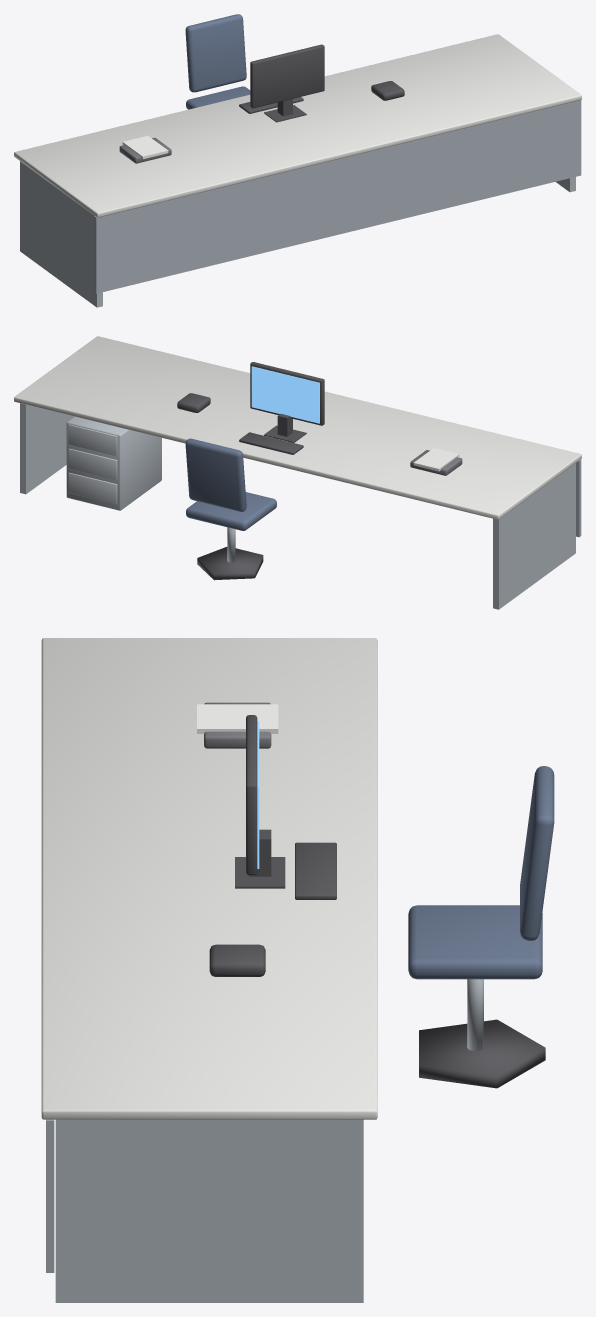
The model's file is office_desk.glb.
3 views of the same model, one above another, from view 1: azimuth 30°, elevation 25°; view 2: azimuth 150°, elevation 25°; view 3: azimuth 270°, elevation 25° (orthographic). The views are drawn at different scales.
Visible parts, largest first — view 1: Cube, Cube.001, Cube.002, Cube.017, Cube.008, Cube.016, Cube.014, Cube.015, Cube.013; view 2: Cube, Cube.002, Cube.004, Cube.017, Cube.003, Cube.009, Cube.016, Cylinder, Cube.006, Cube.007, Cube.005, Cube.008 (+5 smaller); view 3: Cube, Cube.003, Cube.016, Cylinder, Cube.017, Cube.012, Cube.014, Cube.008, Cube.015, Cube.001, Cylinder.001, Cube.013 (+1 smaller).
Boxes of the visible parts, box(x1,y1,x2,y2) form: Cube: box(14, 34, 581, 217); Cube.001: box(94, 100, 581, 293); Cube.002: box(20, 161, 102, 307); Cube.017: box(185, 14, 246, 92); Cube.008: box(250, 44, 324, 108); Cube.016: box(186, 86, 250, 109); Cube.014: box(122, 136, 168, 158); Cube.015: box(371, 81, 404, 100); Cube.013: box(119, 137, 171, 163); Cube: box(14, 336, 581, 519); Cube.002: box(493, 463, 575, 609); Cube.004: box(66, 416, 161, 510); Cube.017: box(185, 438, 246, 511); Cube.003: box(20, 403, 73, 494); Cube.009: box(251, 366, 319, 423); Cube.016: box(186, 492, 276, 530); Cylinder: box(197, 547, 263, 580); Cube.006: box(68, 448, 117, 480); Cube.007: box(68, 424, 117, 456); Cube.005: box(68, 472, 117, 504); Cube.008: box(250, 362, 324, 425); Cube: box(41, 638, 377, 1119); Cube.003: box(55, 1119, 363, 1302); Cube.016: box(408, 905, 542, 979); Cylinder: box(419, 1019, 545, 1088); Cube.017: box(520, 766, 554, 940); Cube.012: box(295, 842, 336, 899); Cube.014: box(197, 704, 278, 733); Cube.008: box(246, 715, 257, 875); Cube.015: box(209, 944, 265, 976); Cube.001: box(46, 1119, 54, 1272); Cylinder.001: box(467, 979, 483, 1050); Cube.013: box(204, 702, 271, 748).
Bounding box in the file's own units: 4 × 1.26 × 1.83.
